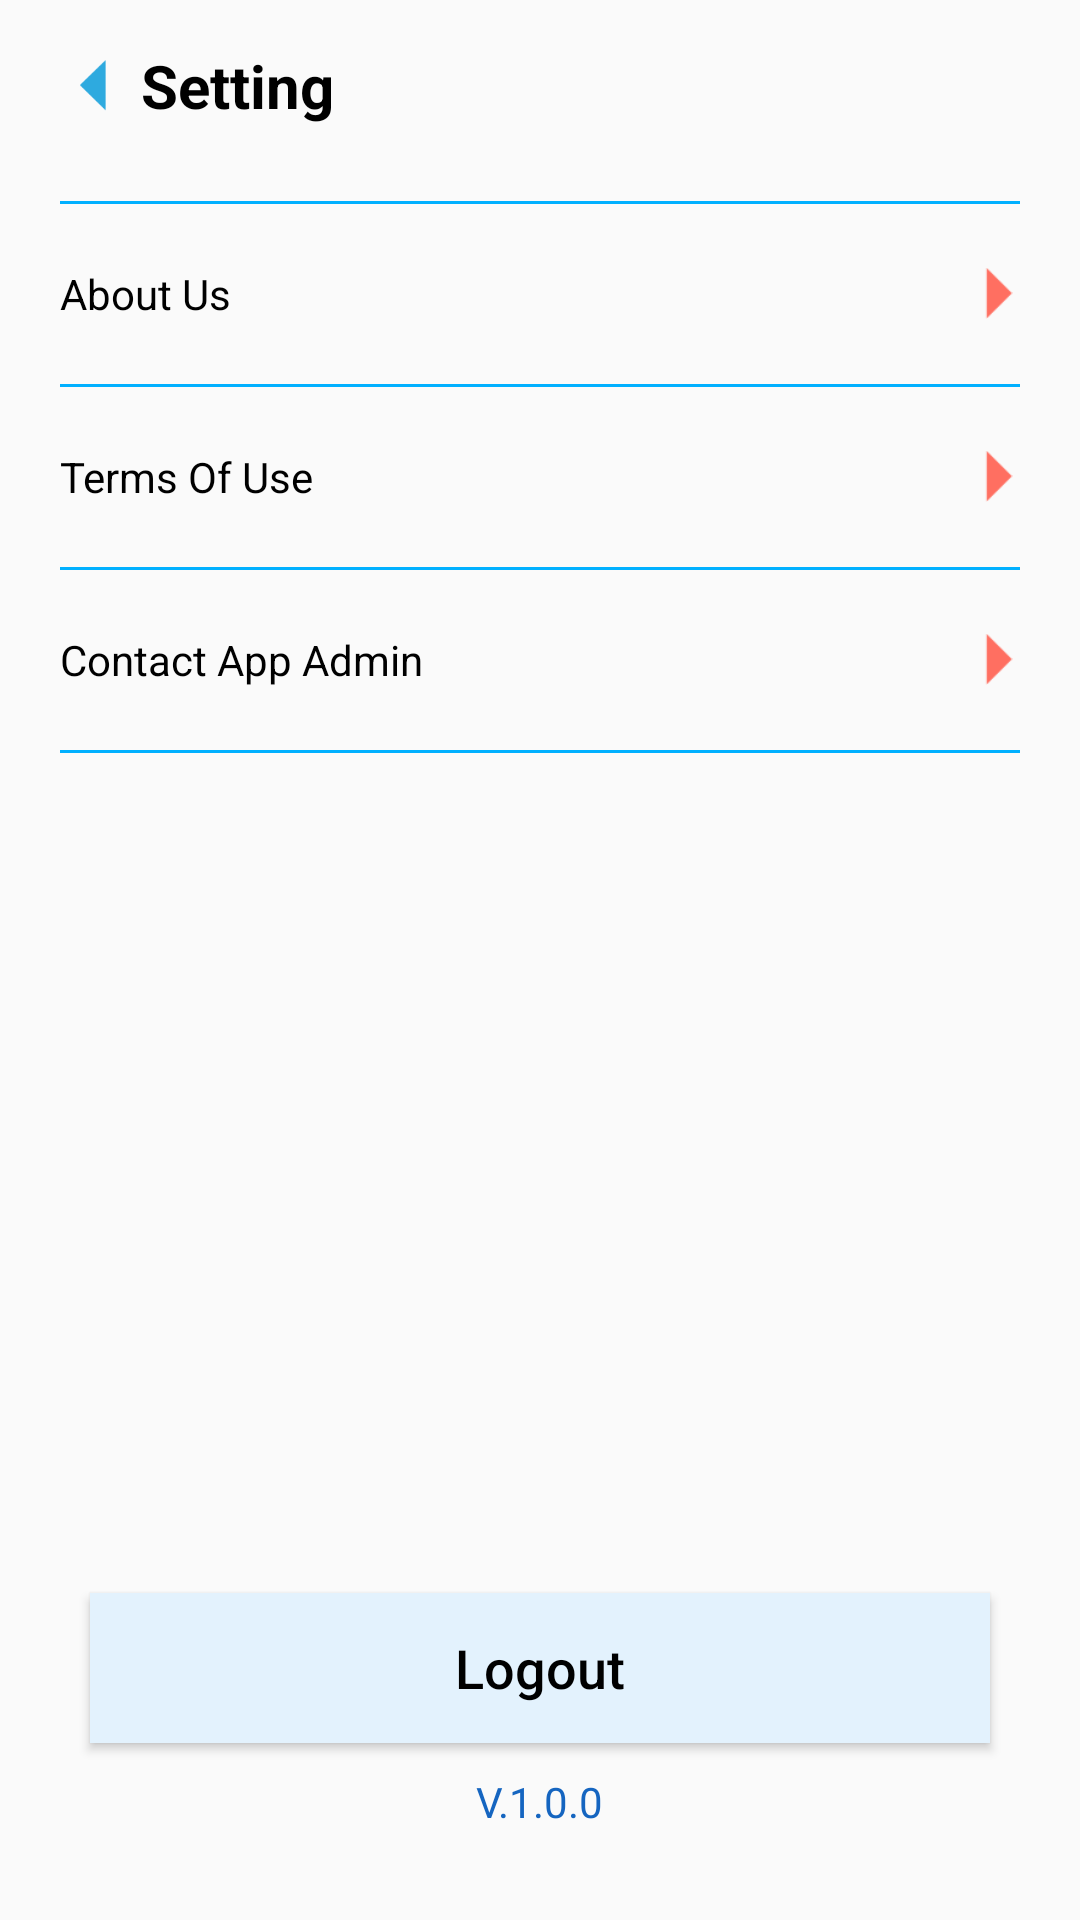

Screen size 1080x1920. Icon name, then its center in pixels as [x,y]:
option back: [93,85]
option go: [999,293], [999,476], [999,659]
